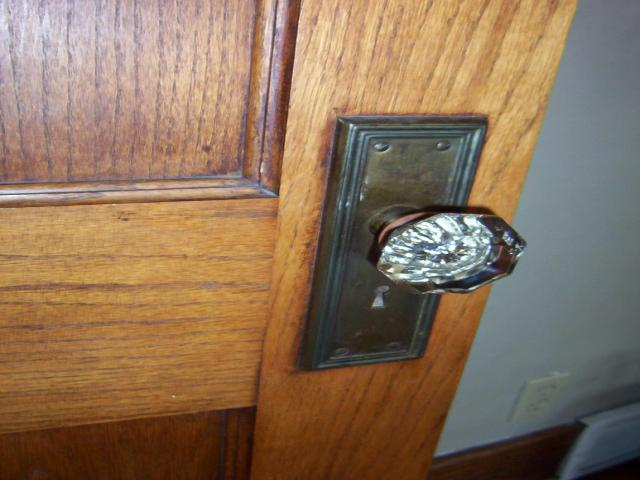Door-handle: (299, 109, 528, 372)
